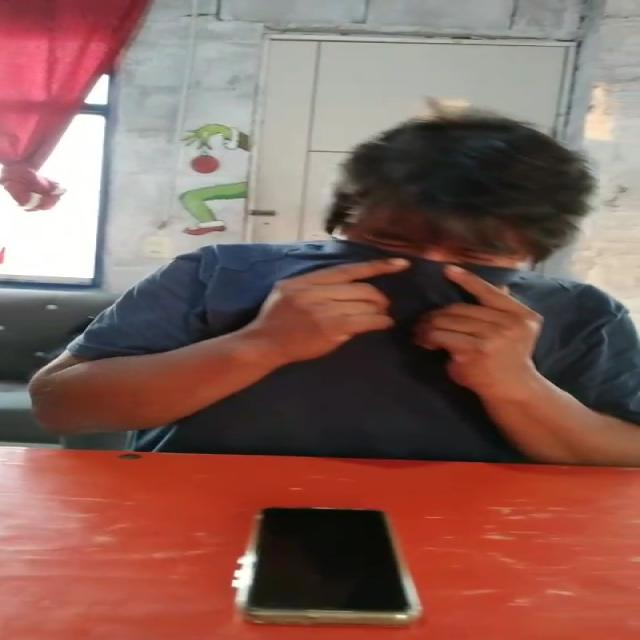8_ropa_rostro: (216, 234, 542, 368)
